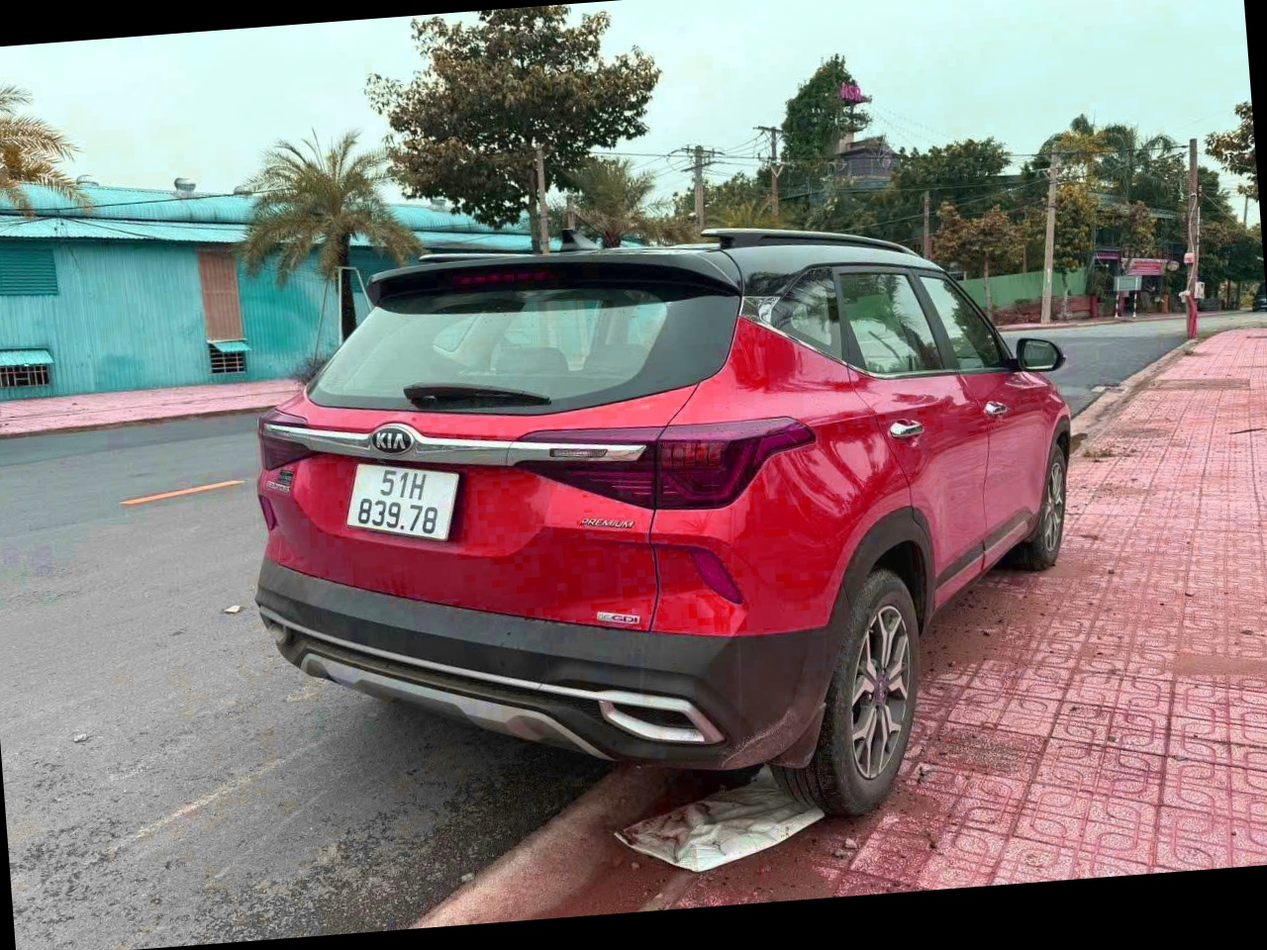Bien-so: (339, 450, 467, 547)
